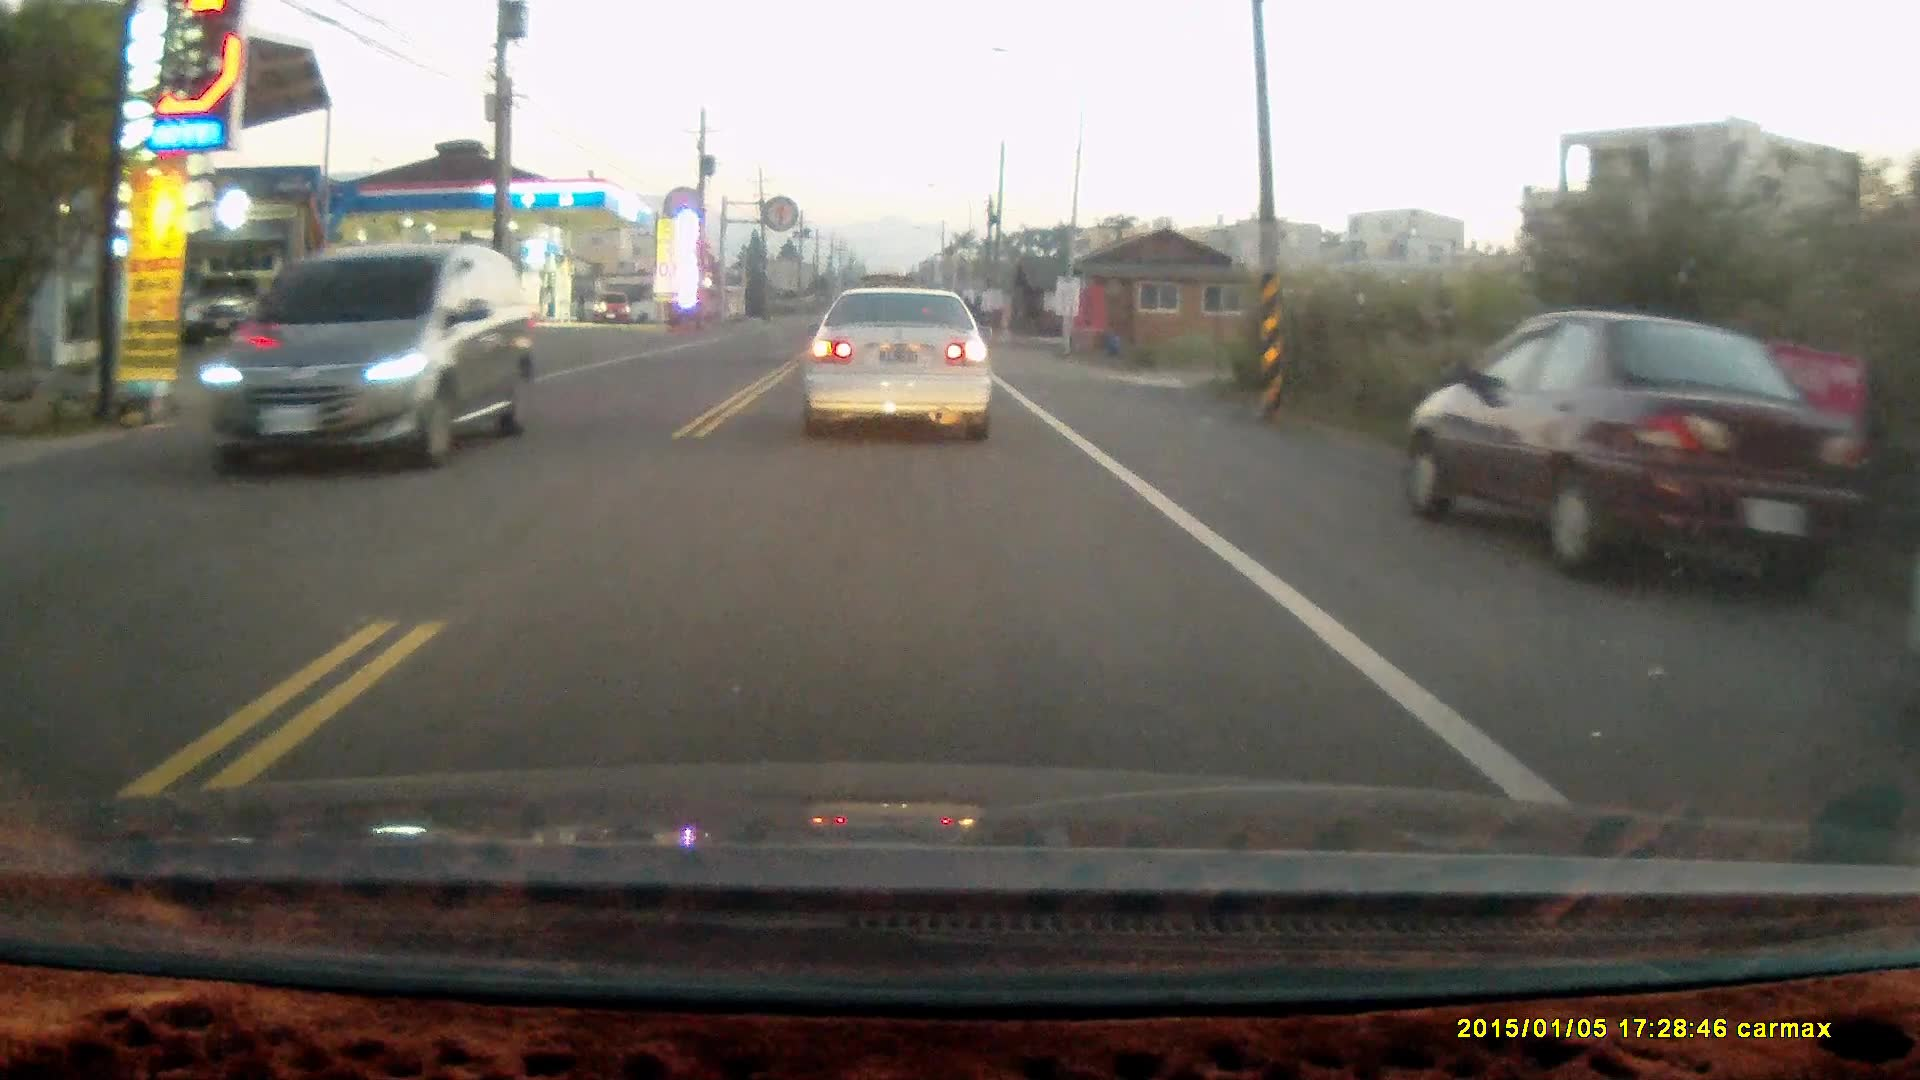vehicle: (1406, 313, 1851, 592), (195, 248, 542, 472), (796, 284, 996, 444), (593, 293, 632, 326)
